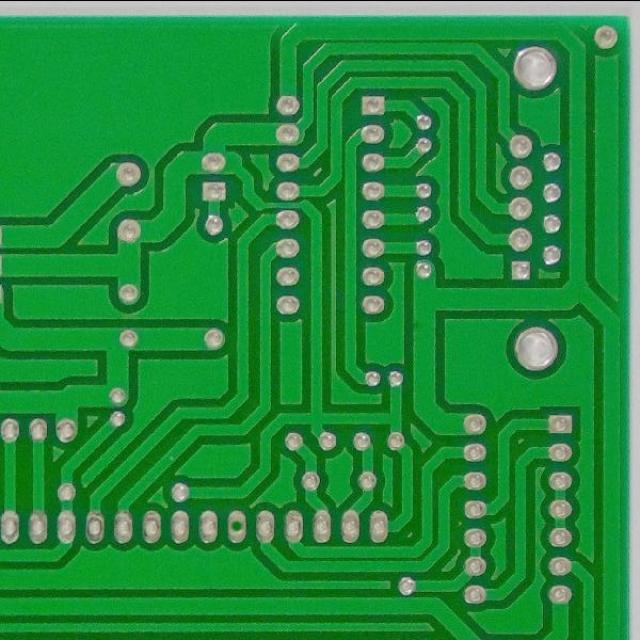missing_hole: (226, 510, 254, 540)
